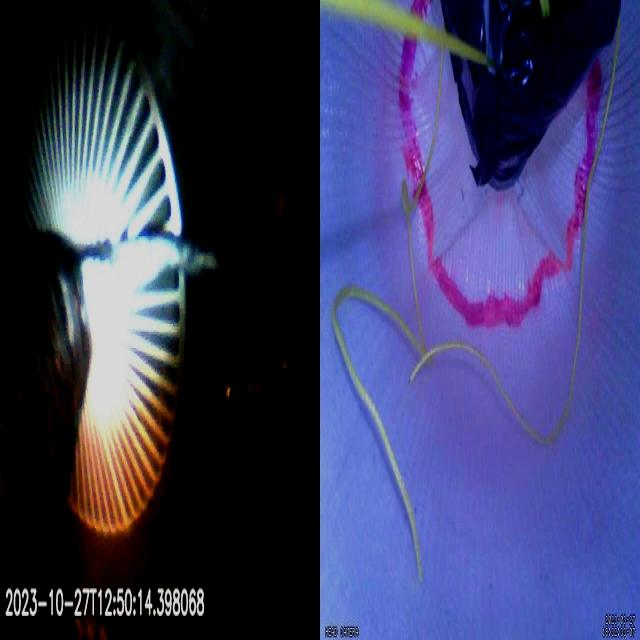red-circle: (399, 0, 604, 331)
